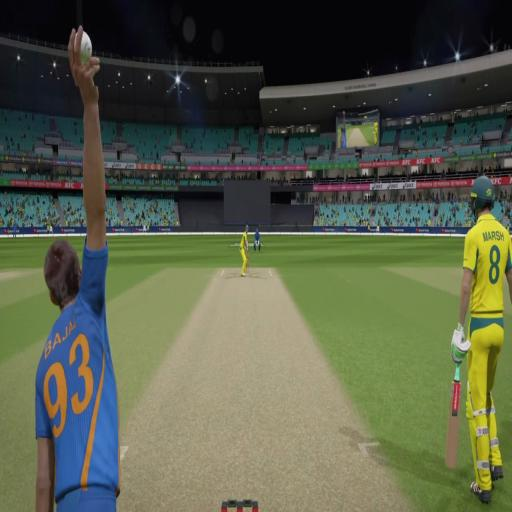ball: (80, 32, 92, 63), (74, 36, 77, 51)
